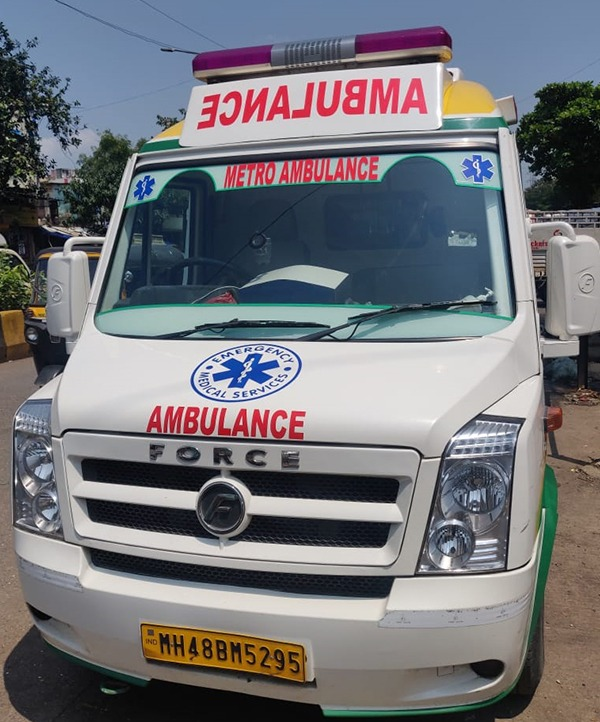ambulance: (16, 26, 589, 714), (133, 390, 335, 452)
numberplate: (138, 617, 323, 688)
